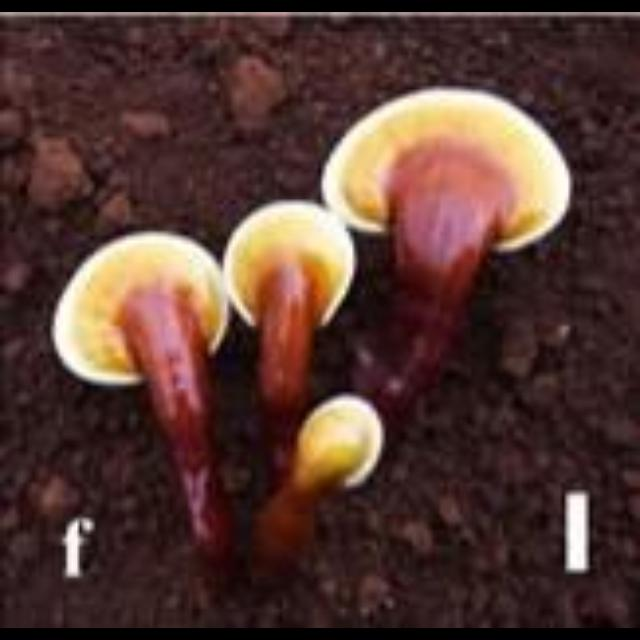ganoderma: (320, 86, 575, 258), (48, 229, 232, 389), (224, 198, 361, 335), (294, 394, 392, 492)
